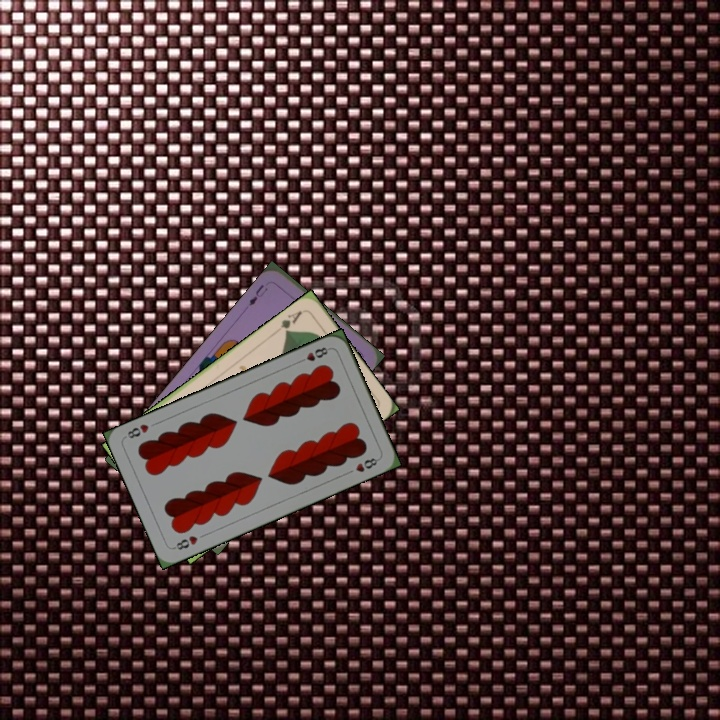EU: (245, 281, 270, 308)
GA: (276, 307, 305, 336)
H8: (294, 343, 333, 366), (169, 531, 200, 553)
